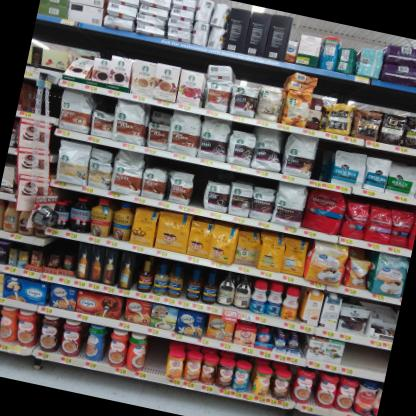empty_space: (339, 340, 391, 382), (141, 336, 173, 383), (186, 164, 211, 216)
